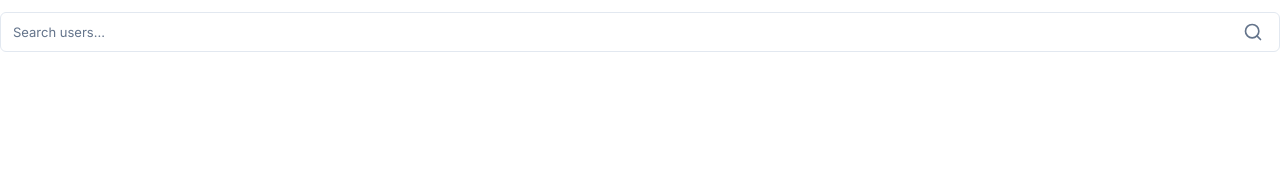
Test: UserLookup › shows owner eligibility guidance when no users match
Type "sales user" into the dropdown named "New Owner" at x=622, y=32, box left=13, top=14, right=1231, bottom=50
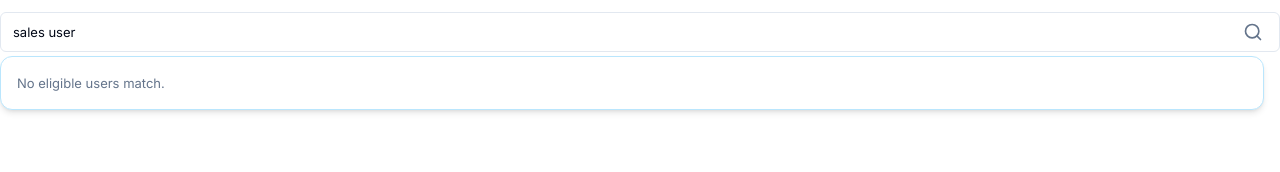
Now the text "No eligible users match." is shown, box left=17, top=75, right=165, bottom=91
